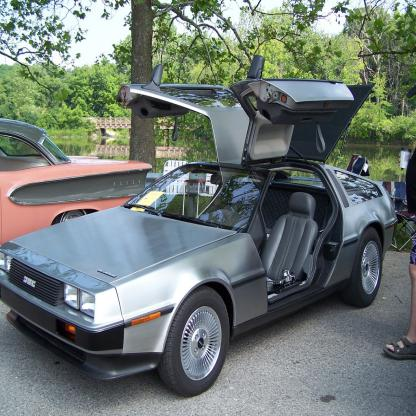Car: (0, 54, 398, 397), (0, 120, 153, 245)
